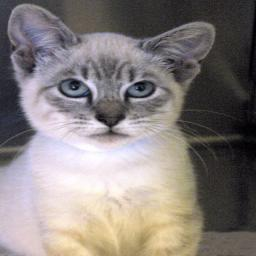catnose: (94, 109, 130, 128)
